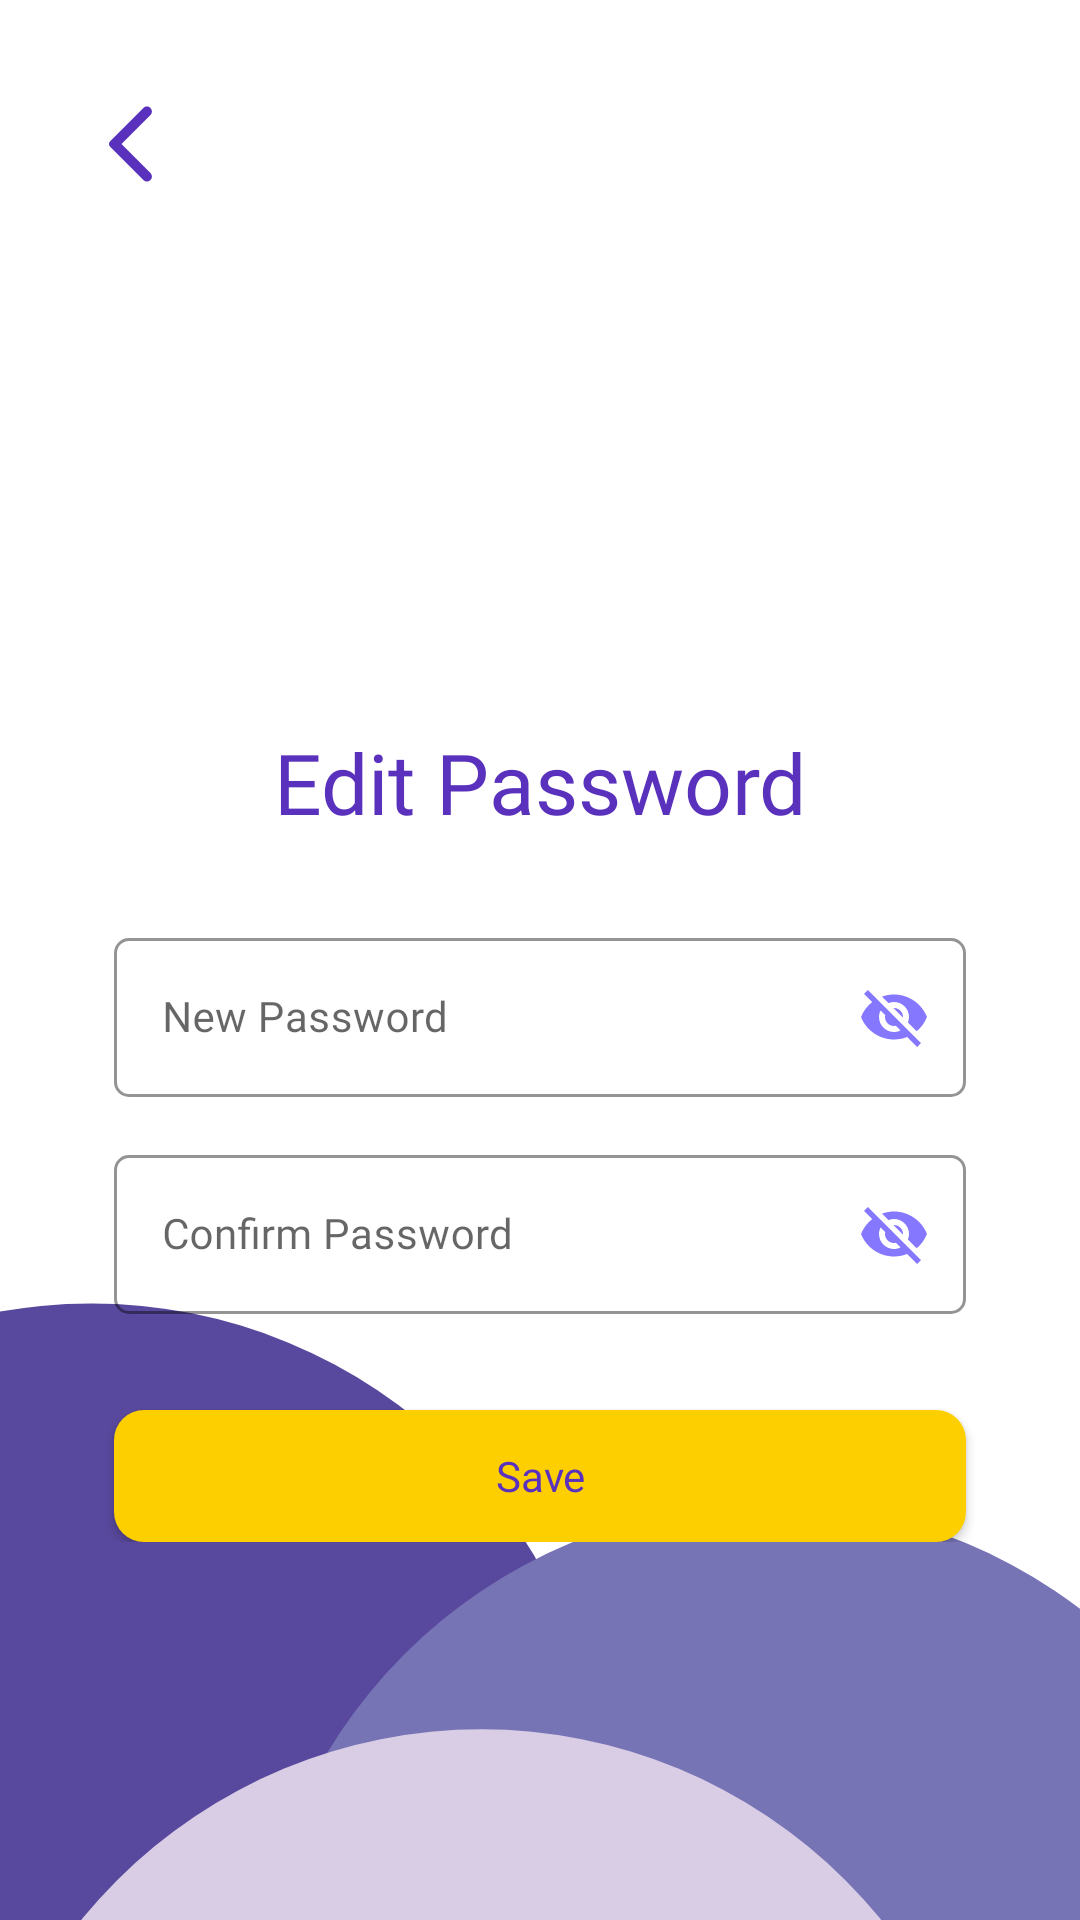

Named icons in this screenshot (1080x1920) and their centers, [x,y]:
arrow back: [130,144]
